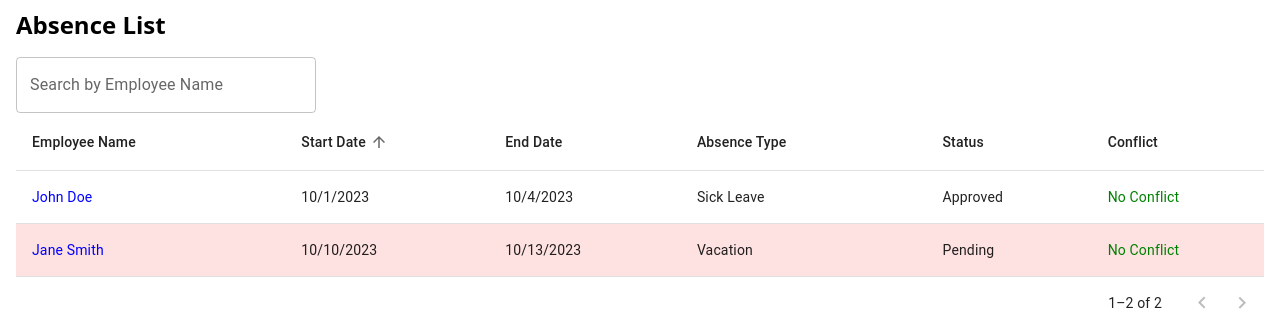
Test: AbsenceList › searches by employee name
The width and height of the screenshot is (1280, 326).
Type "Jane" into the field labelled "Search by Employee Name" at x=166, y=85, box [16,57,316,113]
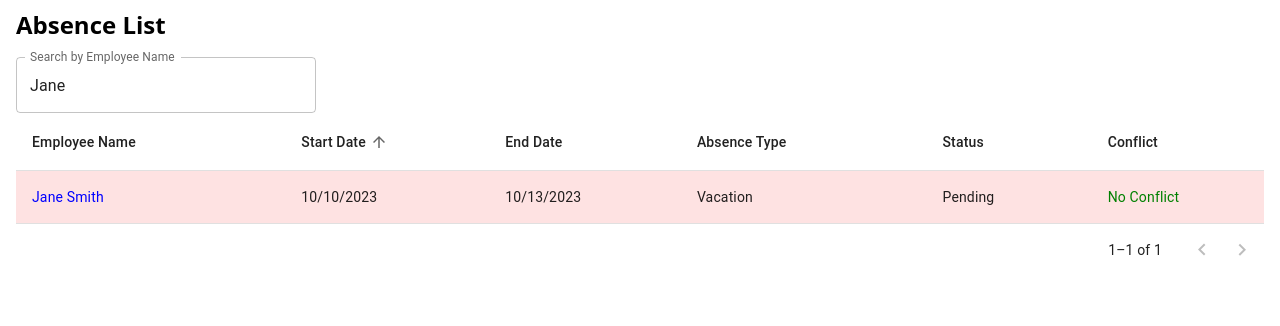
Check: the text "Jane Smith" is shown, box [32,189,104,205]
Check: the text "John Doe" is gone
